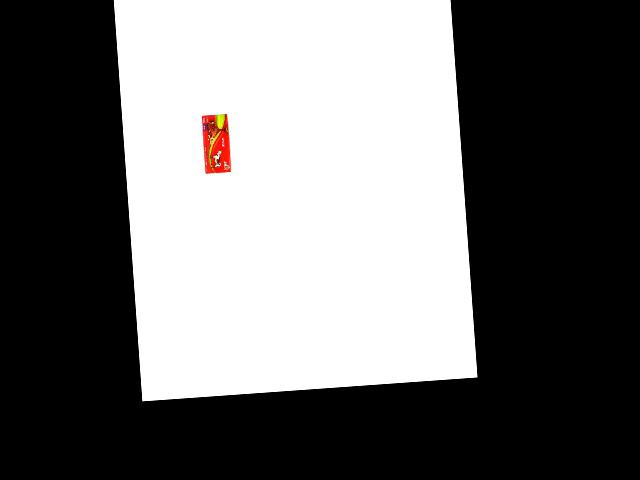chocolate: (195, 112, 233, 178)
